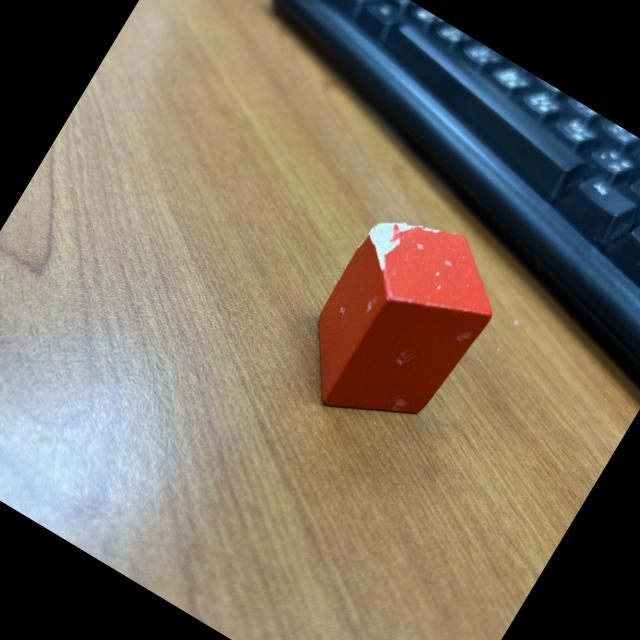broken: (277, 190, 523, 457)
